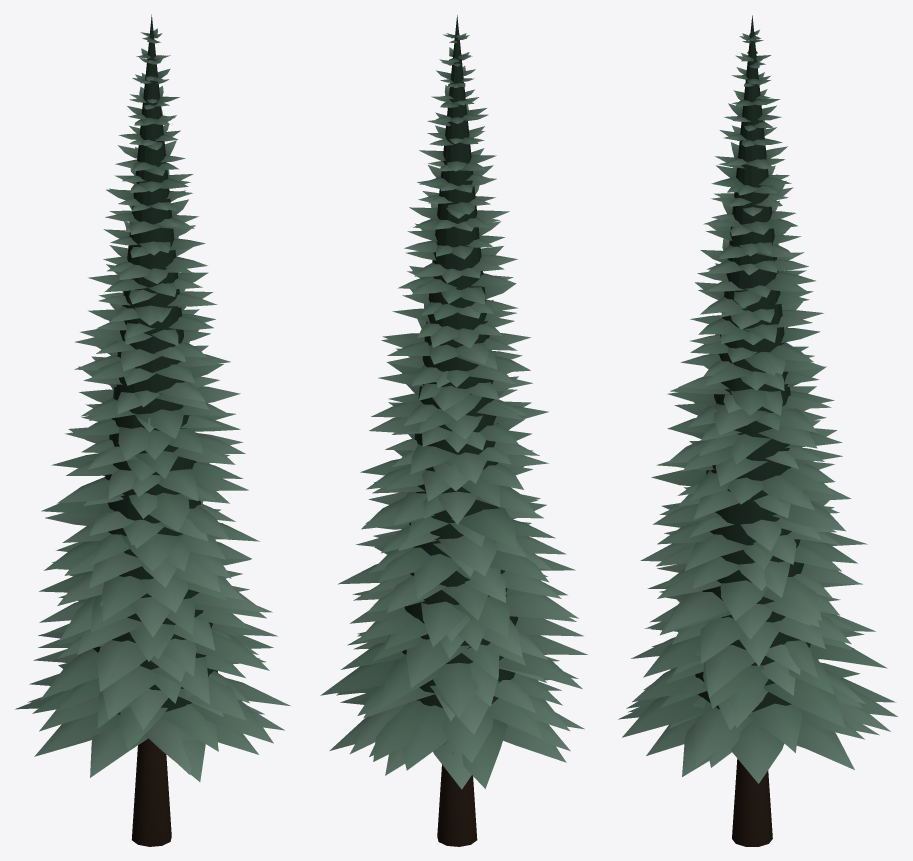
File: sitka-spruce-lod0.glb
3 renders of one model, left to right at view 1: azimuth 30°, elevation 25°; view 2: azimuth 150°, elevation 25°; view 3: azimuth 270°, elevation 25°, orthographic.
Parts seen in each view (by area): view 1: sitka-spruce-lod0; view 2: sitka-spruce-lod0; view 3: sitka-spruce-lod0.
Part boxes in pixels (x1=…): sitka-spruce-lod0: x1=15, y1=14, x2=290, y2=846; sitka-spruce-lod0: x1=320, y1=15, x2=587, y2=846; sitka-spruce-lod0: x1=618, y1=15, x2=897, y2=846.
Size of the model in its own units: 8.29 by 28 by 8.65.
